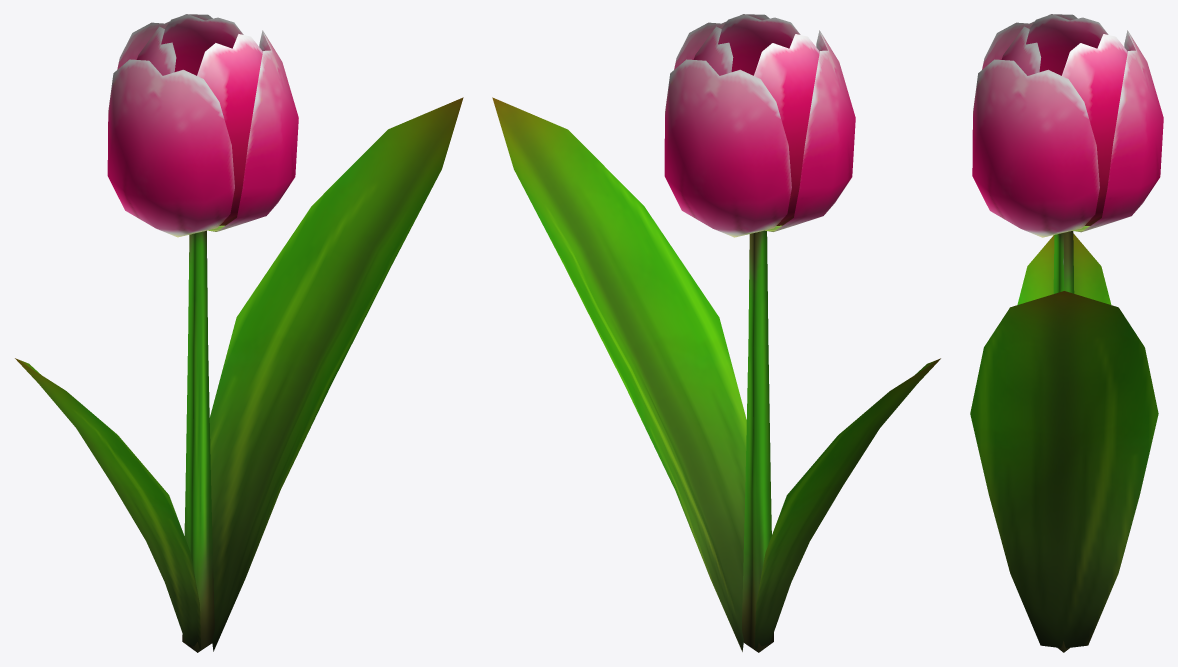
File: tulip.glb
The picture shows the model from 3 angles, left to right: view 1: azimuth 30°, elevation 25°; view 2: azimuth 150°, elevation 25°; view 3: azimuth 270°, elevation 25°; orthographic projection.
Visible parts, largest first — view 1: 平面.002, 平面, 平面.003, Cube, 平面.001; view 2: 平面.002, 平面, 平面.003, 平面.001, Cube; view 3: 平面.002, 平面, 平面.001, 平面.003, Cube.
Boxes of the visible parts, bbox=[...] form: 平面.002: bbox=[209, 97, 463, 651]; 平面: bbox=[107, 14, 298, 237]; 平面.003: bbox=[15, 358, 200, 648]; Cube: bbox=[182, 230, 214, 652]; 平面.001: bbox=[137, 14, 262, 225]; 平面.002: bbox=[492, 97, 746, 651]; 平面: bbox=[664, 14, 855, 237]; 平面.003: bbox=[755, 358, 940, 648]; 平面.001: bbox=[693, 14, 819, 225]; Cube: bbox=[742, 230, 773, 652]; 平面.002: bbox=[970, 291, 1158, 648]; 平面: bbox=[972, 14, 1163, 237]; 平面.001: bbox=[1001, 14, 1127, 225]; 平面.003: bbox=[1017, 233, 1111, 304]; Cube: bbox=[1053, 231, 1074, 652].
Bounding box in the file's own units: 2.96 × 3.88 × 1.11.
1 material, 1 textured.
